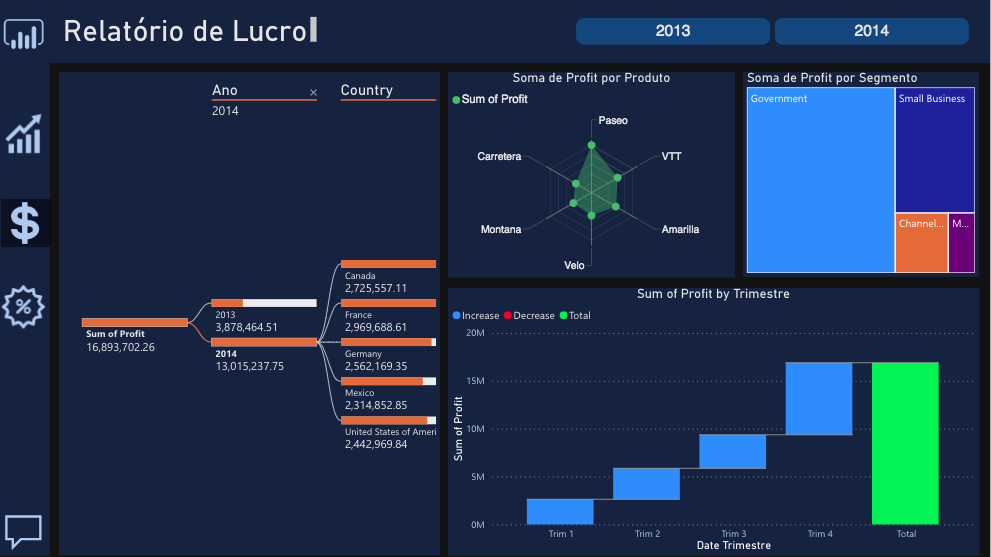

What the dashboard file says about the page in this screenshot:
{"tool":"powerbi","page":{"name":"Relatório de Lucro","canvas":[1280,720],"ordinal":1},"visuals":[{"type":"shape","box":[68,0,1212,84],"z":0},{"type":"shape","box":[0,0,68,718.7],"z":1000},{"type":"textbox","box":[79.9,18.8,336.8,47],"z":2000},{"type":"group","title":"Vendas por Country","box":[801.2,414.6,464.5,307.5],"z":3000},{"type":"group","title":"Vendas por segmento","box":[80.3,413.7,354.8,305.2],"z":4000},{"type":"ChicletSlicer1448559807354","fields":{"Category":["financials.Date.Variation.Hierarquia de datas.Ano"]},"box":[739.2,18.2,527.1,51.5],"z":5000},{"type":"RadarChart1446119667547","title":"Soma de Profit por Produto","fields":{"Category":["financials.Product"],"Y":["Sum(financials.Profit)"]},"box":[581.7,95.4,369.6,265.1],"z":6000},{"type":"waterfallChart","fields":{"Y":["Sum(financials.Profit)"],"Category":["financials.Date.Variation.Hierarquia de datas.Trimestre"]},"box":[581.7,374.2,684.7,345.4],"z":7000},{"type":"decompositionTreeVisual","fields":{"Analyze":["Sum(financials.Profit)"],"ExplainBy":["financials.Date.Variation.Hierarquia de datas.Ano","financials.Country"]},"box":[80.3,95.4,490.8,622.6],"z":8000},{"type":"treemap","title":"Soma de Profit por Segmento","fields":{"Values":["Sum(financials.Profit)"],"Group":["financials.Segment"]},"box":[961.9,95.4,304.5,263.6],"z":9000},{"type":"image","box":[0,0,68.2,90.9],"z":10000},{"type":"actionButton","box":[0,139.4,68.2,71.2],"z":11000},{"type":"actionButton","box":[4.5,259,63.6,62.1],"z":12000},{"type":"actionButton","box":[0,366.6,68.2,63.6],"z":13000},{"type":"actionButton","box":[0,660.4,68.2,57.6],"z":14000}]}

Visuals, with their boxes on the page's 1280x720 design canvas (x1, y1, x2, y2). These are canvas units, not pixel positions in the 991x557 screenshot, which may show the page scaled, cropped or inside an application window:
shape: x1=68 y1=0 x2=1280 y2=84
shape: x1=0 y1=0 x2=68 y2=719
textbox: x1=80 y1=19 x2=417 y2=66
"Vendas por Country" group: x1=801 y1=415 x2=1266 y2=722
"Vendas por segmento" group: x1=80 y1=414 x2=435 y2=719
ChicletSlicer1448559807354 - financials.Date.Variation.Hierarquia de datas.Ano: x1=739 y1=18 x2=1266 y2=70
"Soma de Profit por Produto" RadarChart1446119667547: x1=582 y1=95 x2=951 y2=360
waterfallChart - Sum(financials.Profit) x financials.Date.Variation.Hierarquia de datas.Trimestre: x1=582 y1=374 x2=1266 y2=720
decompositionTreeVisual - Sum(financials.Profit) x financials.Date.Variation.Hierarquia de datas.Ano: x1=80 y1=95 x2=571 y2=718
"Soma de Profit por Segmento" treemap: x1=962 y1=95 x2=1266 y2=359
image: x1=0 y1=0 x2=68 y2=91
actionButton: x1=0 y1=139 x2=68 y2=211
actionButton: x1=4 y1=259 x2=68 y2=321
actionButton: x1=0 y1=367 x2=68 y2=430
actionButton: x1=0 y1=660 x2=68 y2=718
